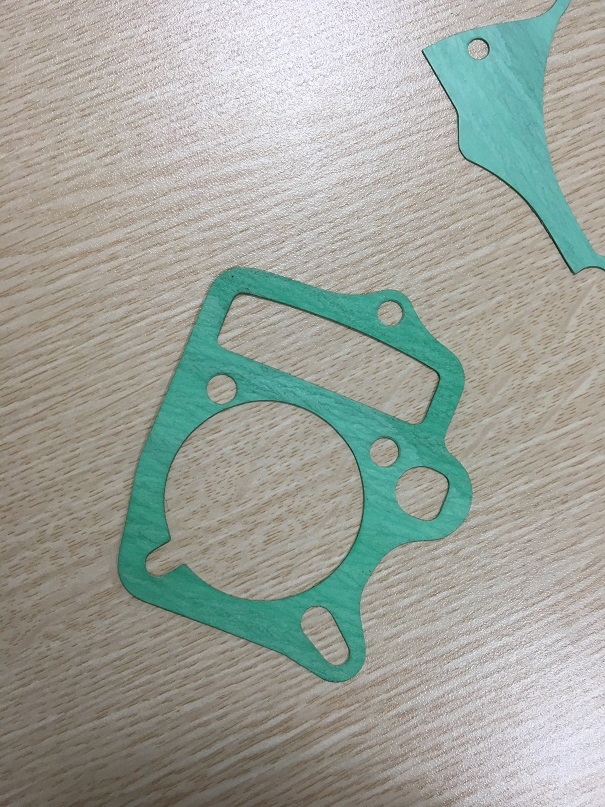type4: (106, 256, 486, 686)
